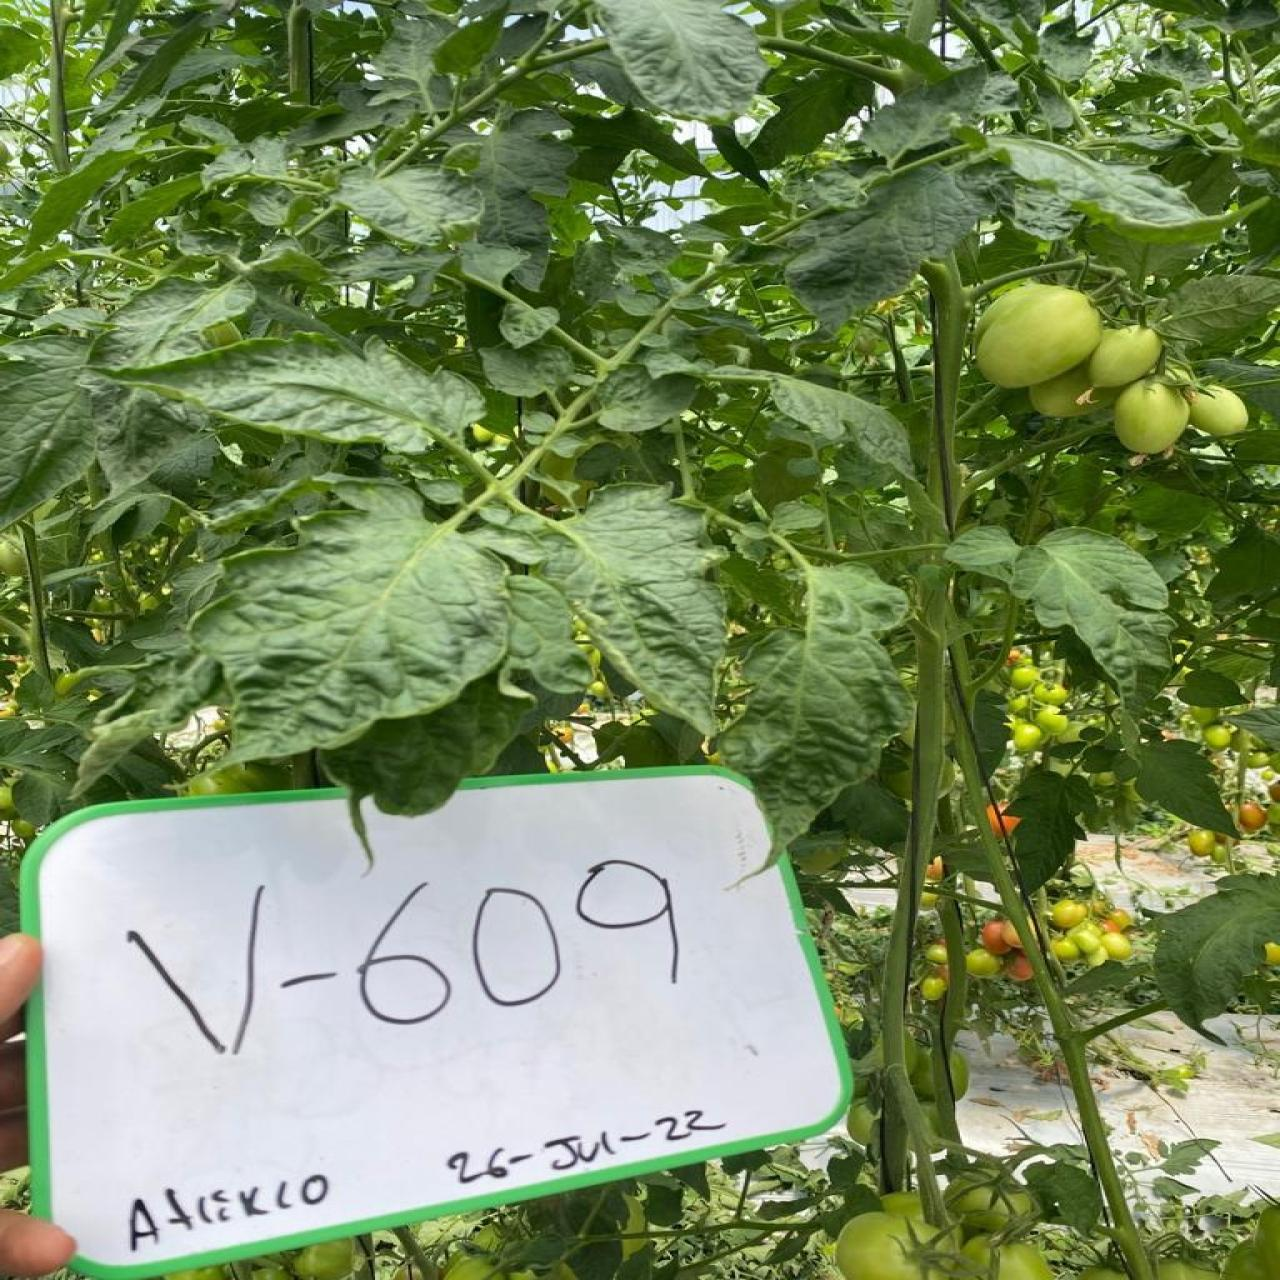T_Fl_H: (978, 286, 1104, 389), (1114, 379, 1191, 456), (1028, 365, 1121, 418), (1091, 326, 1164, 389), (1191, 386, 1251, 436)
T_L_H: (721, 566, 908, 844), (1155, 876, 1280, 1039)
T_L_R: (195, 489, 504, 761), (544, 486, 724, 734), (118, 336, 484, 454), (948, 529, 1175, 706), (788, 166, 988, 329), (708, 369, 914, 477), (4, 336, 98, 526)
